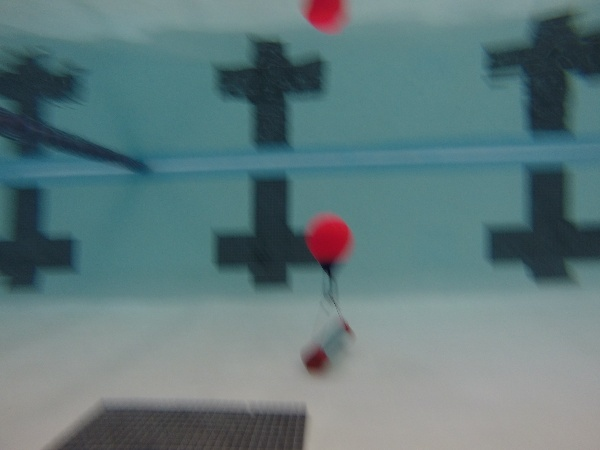buoy_red: (305, 216, 350, 273)
